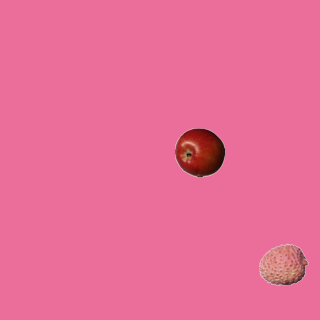Apple Braeburn: (174, 127, 224, 177)
Lychee: (258, 239, 308, 289)
